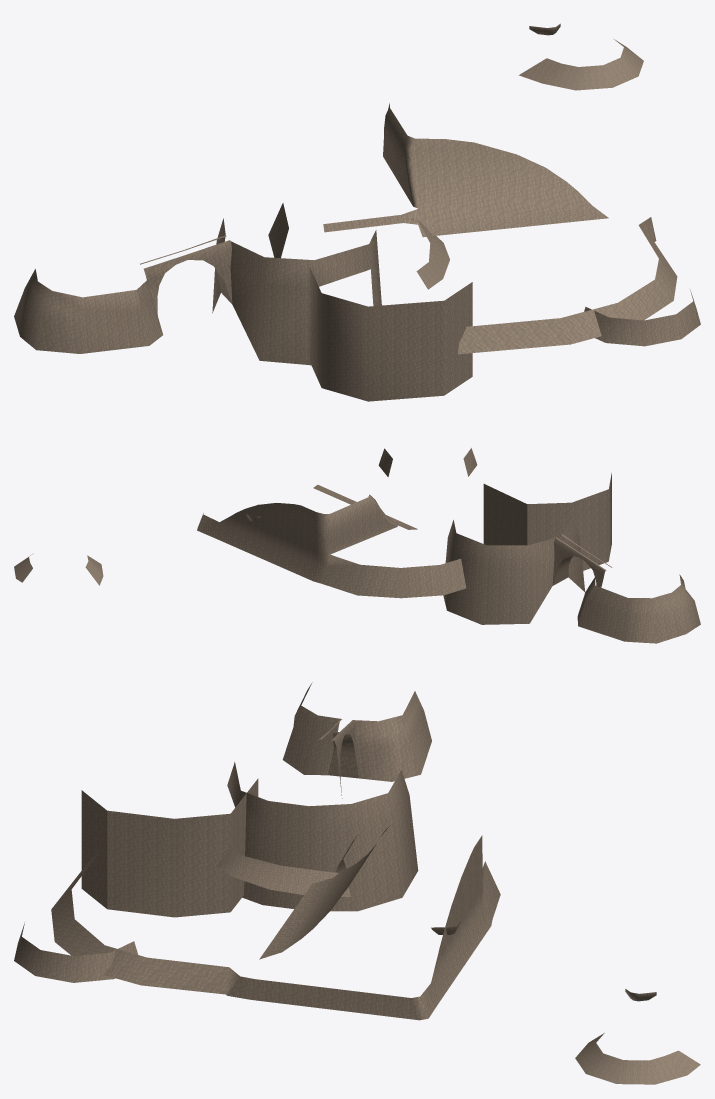
File: kd_stage_1366d7_3_2.glb
3 renders of one model, top to bottom at view 1: azimuth 30°, elevation 25°; view 2: azimuth 150°, elevation 25°; view 3: azimuth 270°, elevation 25°, orthographic. The views are drawn at different scales.
Visible parts, largest first — view 1: kd_stage_1366d7_3_2; view 2: kd_stage_1366d7_3_2; view 3: kd_stage_1366d7_3_2.
Boxes of the visible parts, x1,y1,x2,y2 form: kd_stage_1366d7_3_2: (14,23,700,401); kd_stage_1366d7_3_2: (14,448,700,643); kd_stage_1366d7_3_2: (14,682,700,1084).
Bounding box in the file's own units: 617 × 98.87 × 474.
1 material, 1 textured.
